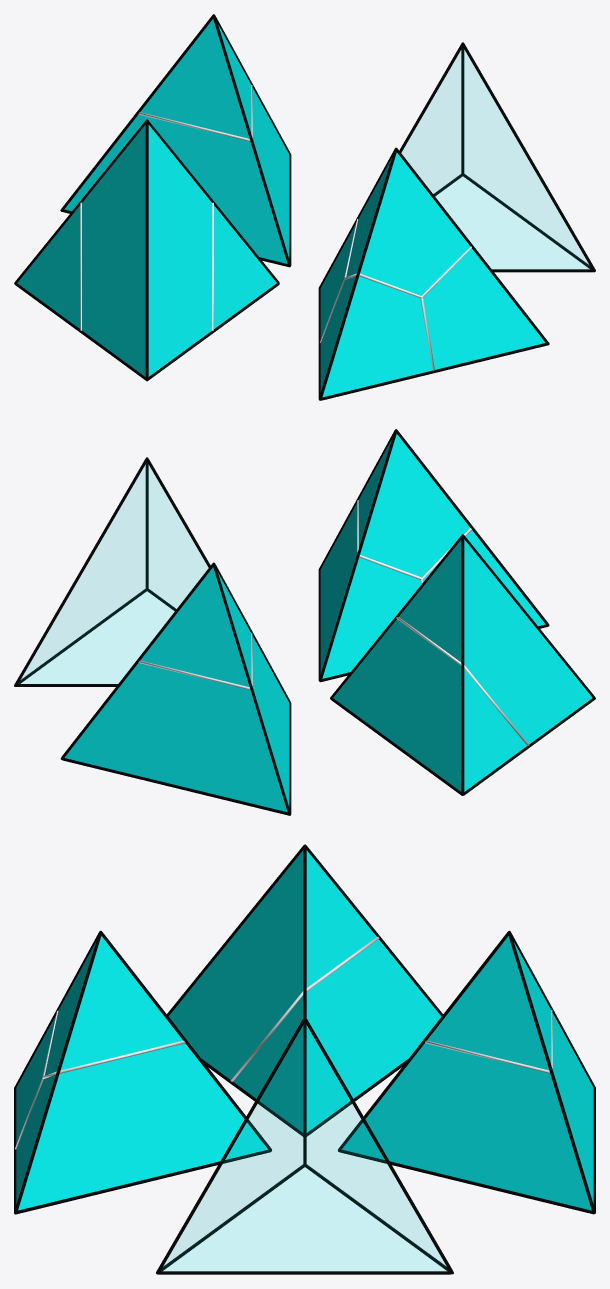
File: canonical3fold.glb
The picture shows the model from 3 angles, top to bottom: view 1: azimuth 30°, elevation 25°; view 2: azimuth 150°, elevation 25°; view 3: azimuth 270°, elevation 25°; orthographic projection. The views are drawn at different scales.
Visible parts, largest first — view 1: Circle.001, Circle.002, Circle, windows, skeleton.001, skeleton.002, frame, skeleton, trifold_intersection, quad_intersection; view 2: Circle.001, Circle, Circle.002, windows, skeleton.001, skeleton, frame, skeleton.002, quad_intersection; view 3: Circle.001, Circle, Circle.002, windows, frame, skeleton, skeleton.002, skeleton.001, trifold_intersection, quad_intersection, triangle_intersection.
Boxes of the visible parts, x1=… form: Circle.001: x1=17, y1=124, x2=276, y2=376; Circle.002: x1=320, y1=152, x2=545, y2=397; Circle: x1=64, y1=19, x2=289, y2=263; windows: x1=402, y1=50, x2=589, y2=268; skeleton.001: x1=14, y1=119, x2=279, y2=381; skeleton.002: x1=318, y1=147, x2=549, y2=400; frame: x1=399, y1=42, x2=595, y2=272; skeleton: x1=60, y1=14, x2=291, y2=267; trifold_intersection: x1=319, y1=219, x2=471, y2=370; quad_intersection: x1=80, y1=202, x2=213, y2=330; Circle.001: x1=333, y1=539, x2=592, y2=791; Circle: x1=64, y1=567, x2=289, y2=812; Circle.002: x1=320, y1=434, x2=545, y2=678; windows: x1=20, y1=465, x2=207, y2=683; skeleton.001: x1=330, y1=534, x2=595, y2=795; skeleton: x1=60, y1=562, x2=291, y2=815; frame: x1=14, y1=457, x2=210, y2=686; skeleton.002: x1=318, y1=429, x2=549, y2=682; quad_intersection: x1=396, y1=617, x2=529, y2=745; Circle.001: x1=168, y1=850, x2=441, y2=1132; Circle: x1=342, y1=936, x2=593, y2=1210; Circle.002: x1=16, y1=936, x2=267, y2=1210; windows: x1=163, y1=1025, x2=446, y2=1270; frame: x1=156, y1=1017, x2=453, y2=1274; skeleton: x1=338, y1=930, x2=595, y2=1214; skeleton.002: x1=14, y1=930, x2=271, y2=1214; skeleton.001: x1=167, y1=844, x2=442, y2=1136; trifold_intersection: x1=15, y1=1010, x2=185, y2=1149; quad_intersection: x1=230, y1=937, x2=379, y2=1081; triangle_intersection: x1=425, y1=1010, x2=552, y2=1073.
Size of the model in its own units: 3.42 by 1.43 by 3.42.
